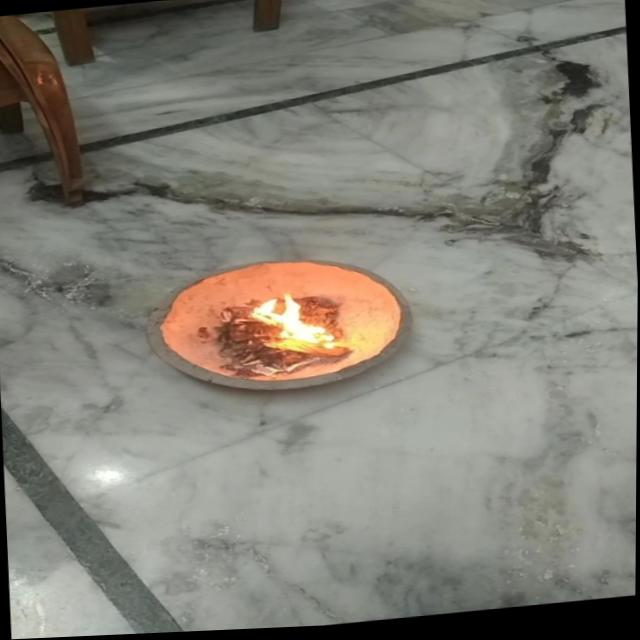fire: (246, 294, 352, 362)
